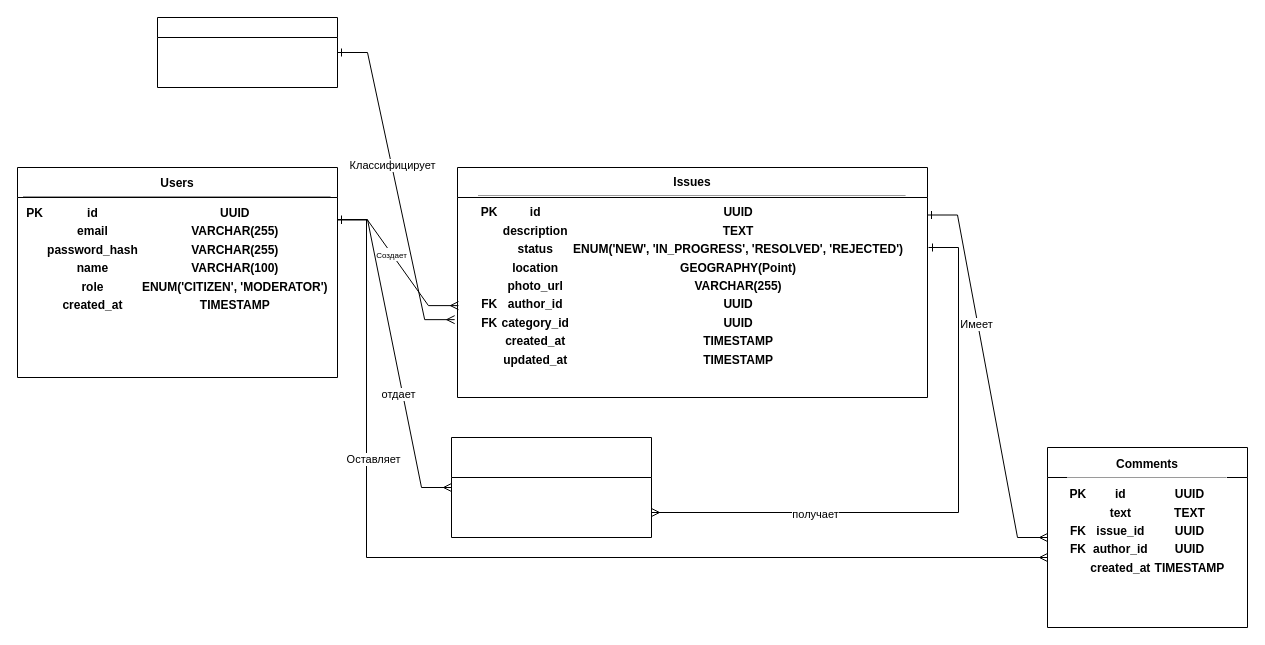
Image size: 1265x645. Some labels were removed from this diagram. Here are the shapes that lost their labels. From the top down, the centre of each, then its label:
point (247, 52): Categories PK id UUID name VARCHAR(100)
point (551, 487): Votes PK, FK user_id UUID PK, FK issue_id UUID created_at TIMESTAMP
